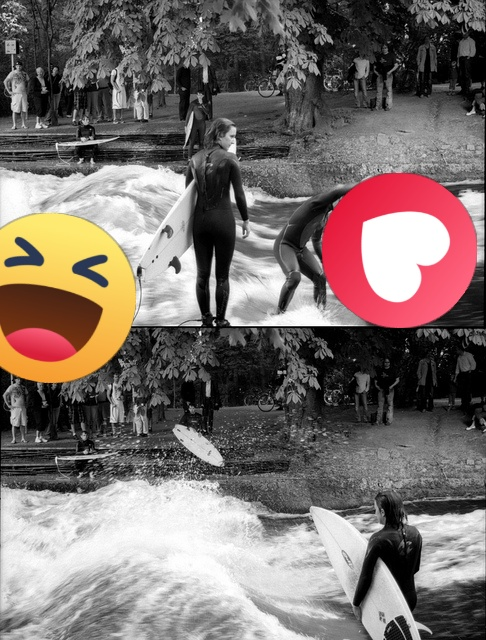haha: (0, 213, 136, 383)
love: (322, 173, 477, 328)
